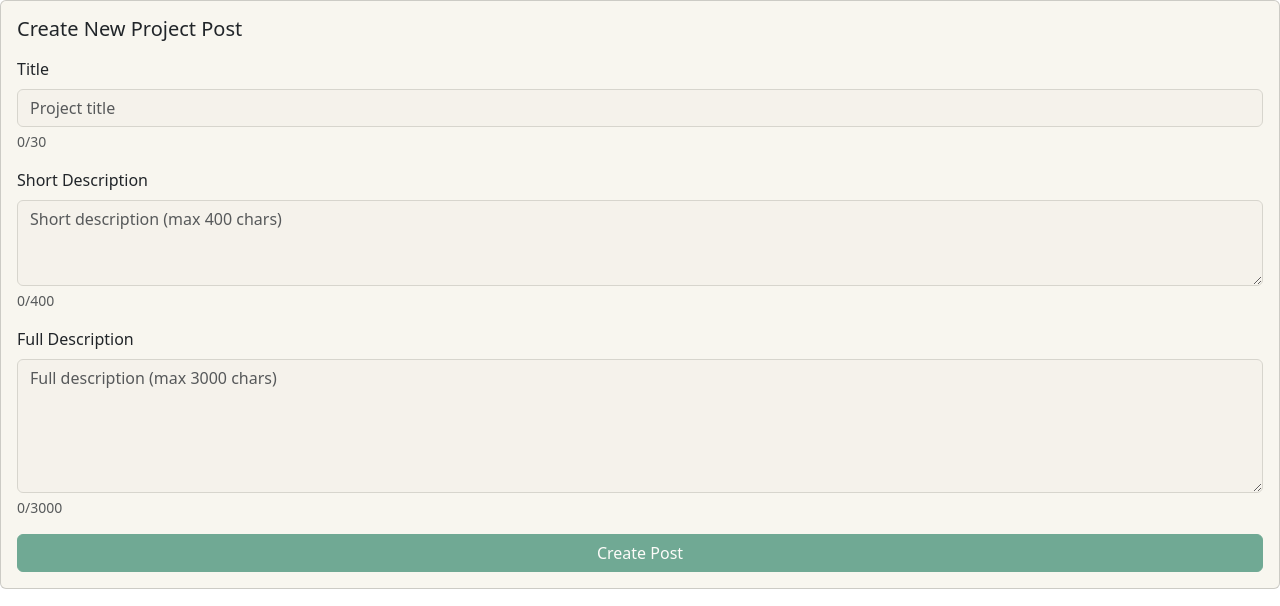
Test: CreatePost › title character counter updates as user types
In the field with placeholder "Project title": (640, 108) [17, 89, 1263, 127], type "Hello"
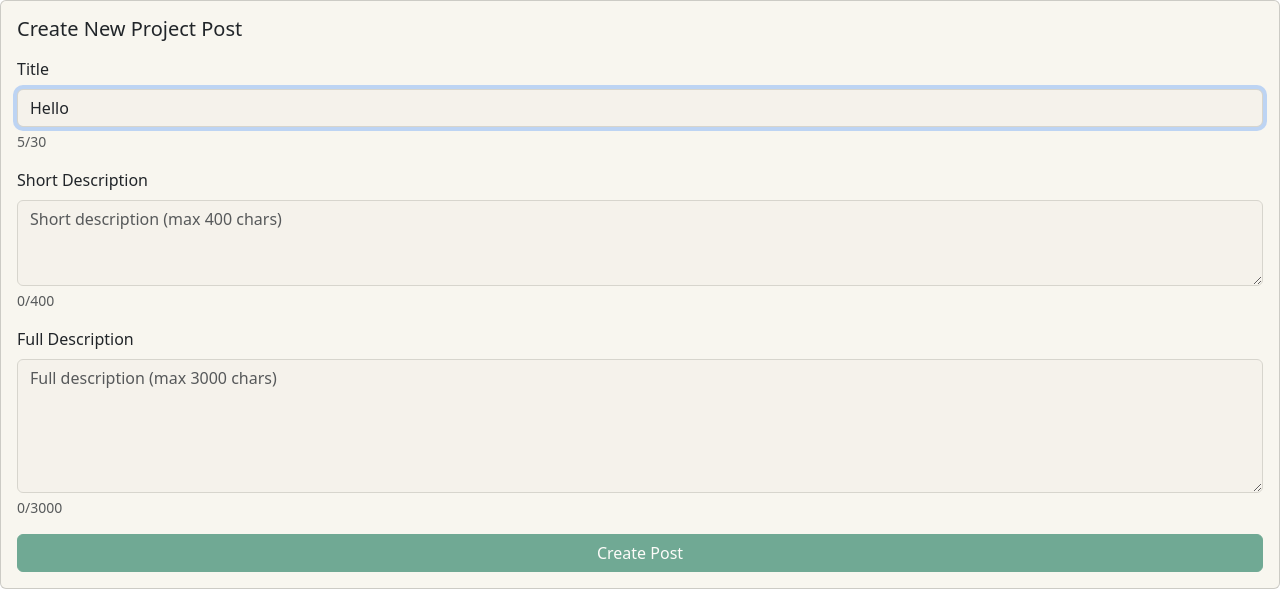
Now the text "5/30" is shown, box [17, 132, 46, 151]
